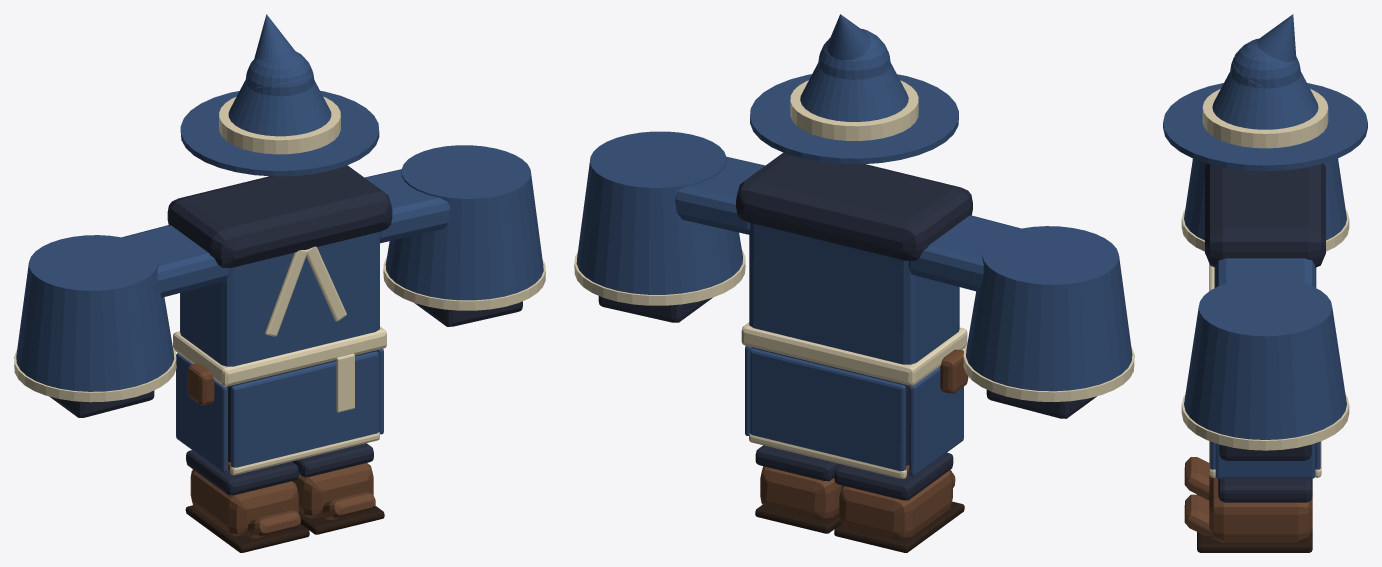
The model's file is ApprenticeArmorSet.ready.glb.
The picture shows the model from 3 angles, left to right: view 1: azimuth 30°, elevation 25°; view 2: azimuth 150°, elevation 25°; view 3: azimuth 270°, elevation 25°; orthographic projection. The views are drawn at different scales.
Visible parts, largest first — view 1: Chestplate, RightLowerArm, LeftLowerArm, Helmet, RightBoots, LeftBoots, RightUpperArm, LeftUpperArm; view 2: Chestplate, RightLowerArm, LeftLowerArm, Helmet, RightBoots, LeftBoots, RightUpperArm, LeftUpperArm; view 3: LeftLowerArm, Helmet, Chestplate, LeftBoots, RightLowerArm, LeftUpperArm, RightBoots.
Part boxes in pixels (x1,y1,x2,y2): Chestplate: (167,165,392,475); RightLowerArm: (14,235,176,417); LeftLowerArm: (383,145,545,326); Helmet: (180,14,379,176); RightBoots: (185,450,309,552); LeftBoots: (292,443,384,534); RightUpperArm: (122,225,228,297); LeftUpperArm: (364,169,450,243); Chestplate: (736,152,972,478); RightLowerArm: (963,226,1134,418); LeftLowerArm: (574,131,745,322); Helmet: (750,14,958,164); RightBoots: (834,452,964,552); LeftBoots: (755,445,841,533); RightUpperArm: (908,215,1020,291); LeftUpperArm: (675,156,765,234); LeftLowerArm: (1181,277,1349,460); Helmet: (1163,14,1367,171); Chestplate: (1205,163,1325,478); LeftBoots: (1184,477,1312,552); RightLowerArm: (1181,158,1349,251); LeftUpperArm: (1215,258,1315,287); RightBoots: (1184,457,1212,499).
Bounding box in the file's own units: 6.81 × 6.24 × 2.3.
1 material, 1 textured.
